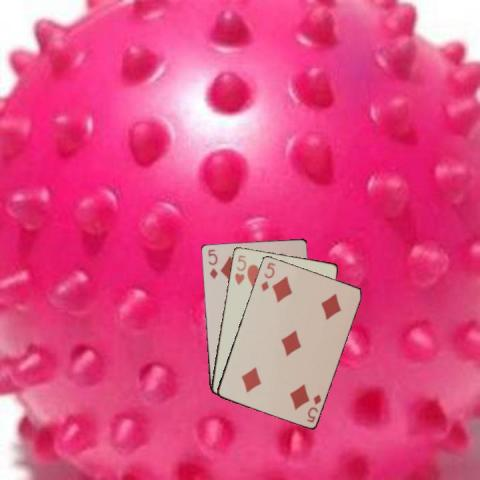5d: (257, 259, 277, 293), (304, 391, 323, 423), (205, 246, 219, 280)
5h: (232, 252, 248, 286)
